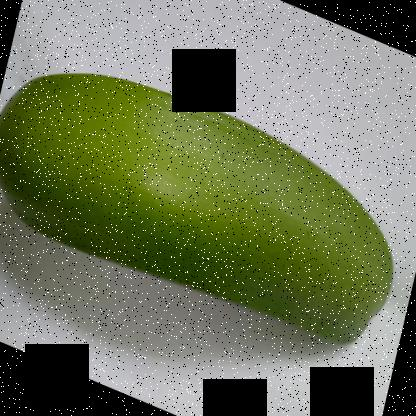freshunripe: (0, 61, 402, 359)
